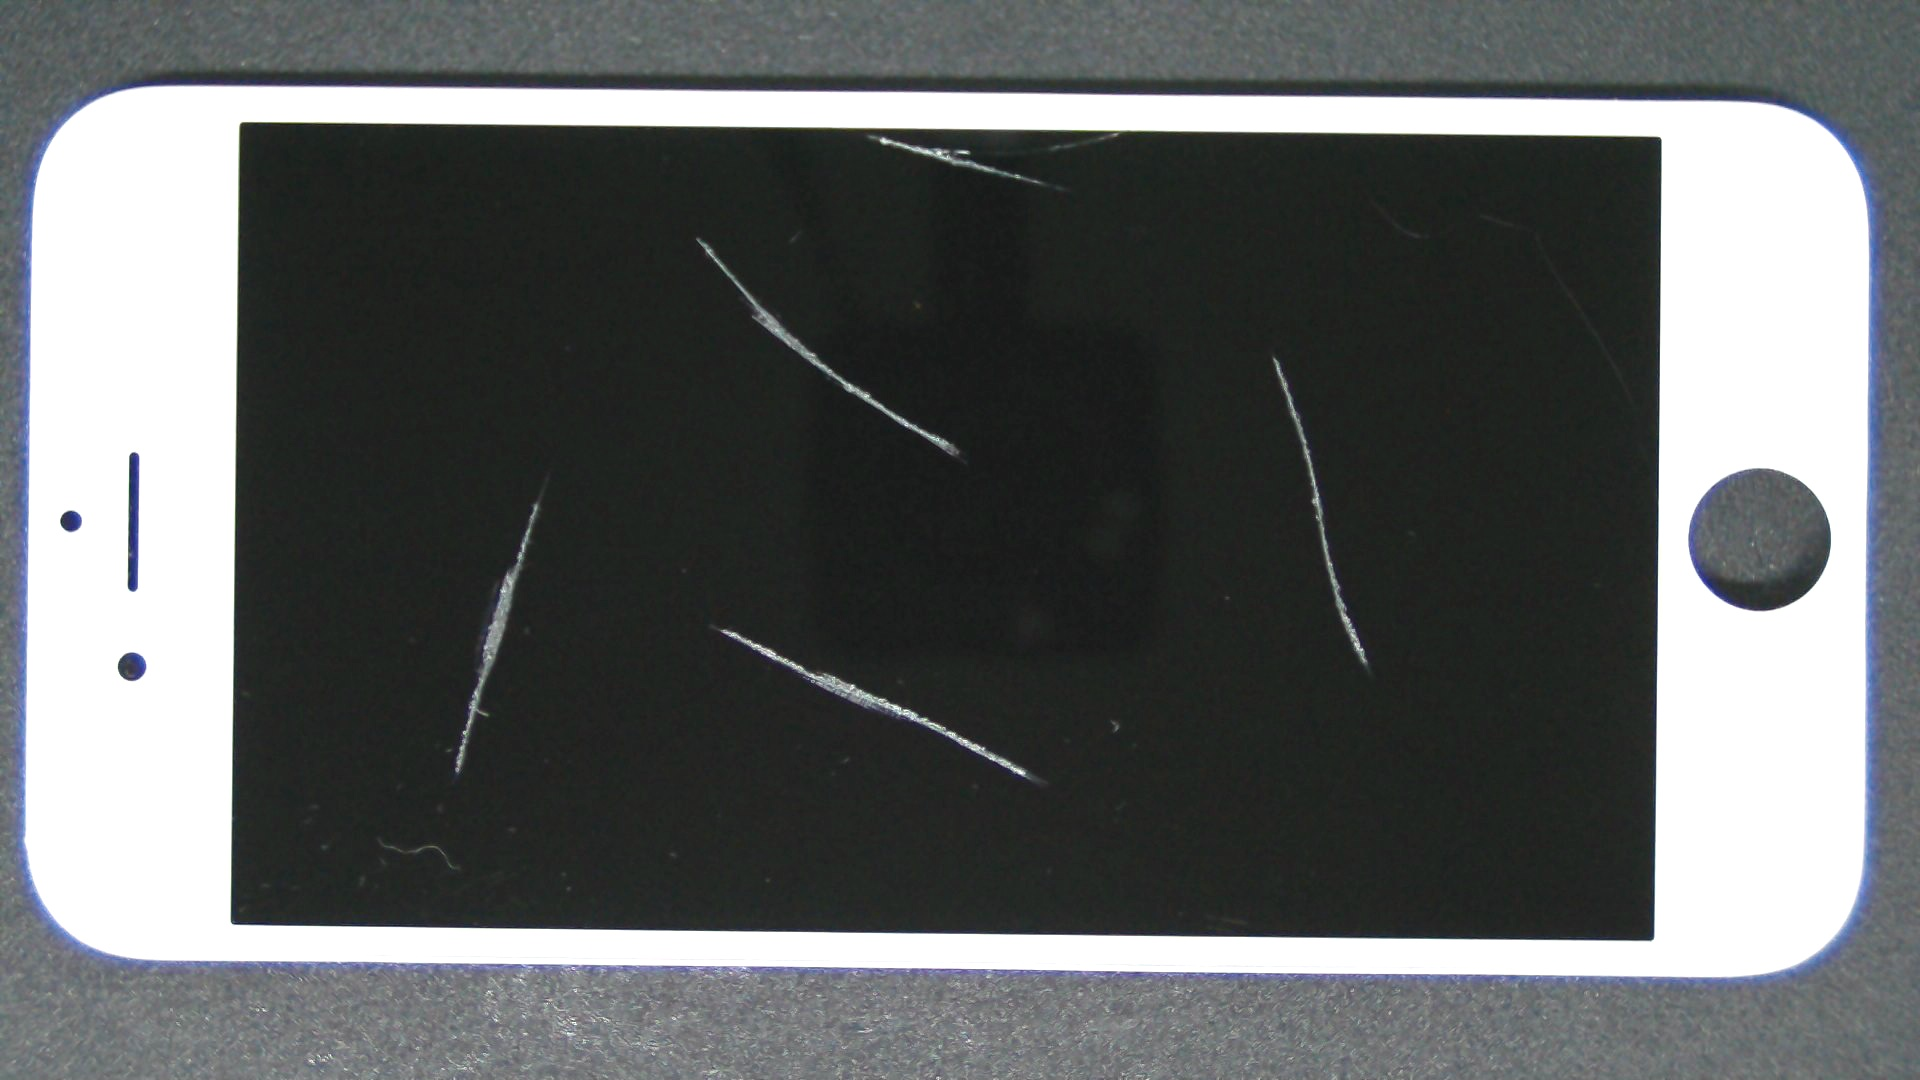oil: (637, 175, 1909, 534), (356, 311, 1065, 936), (266, 251, 799, 752), (348, 117, 1043, 355), (431, 66, 1299, 202)
